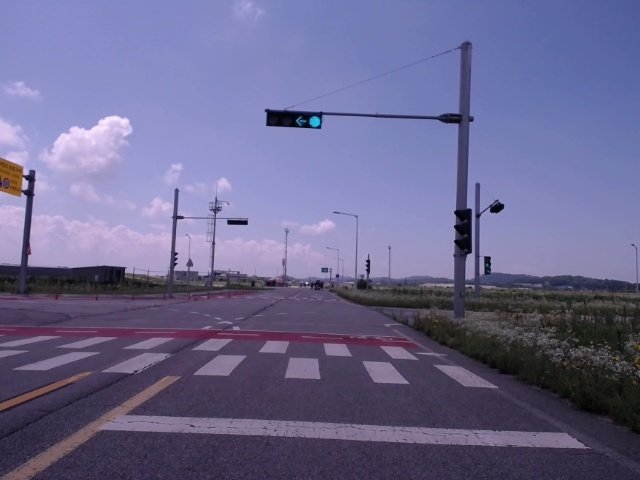all_green_4: (267, 109, 324, 129)
